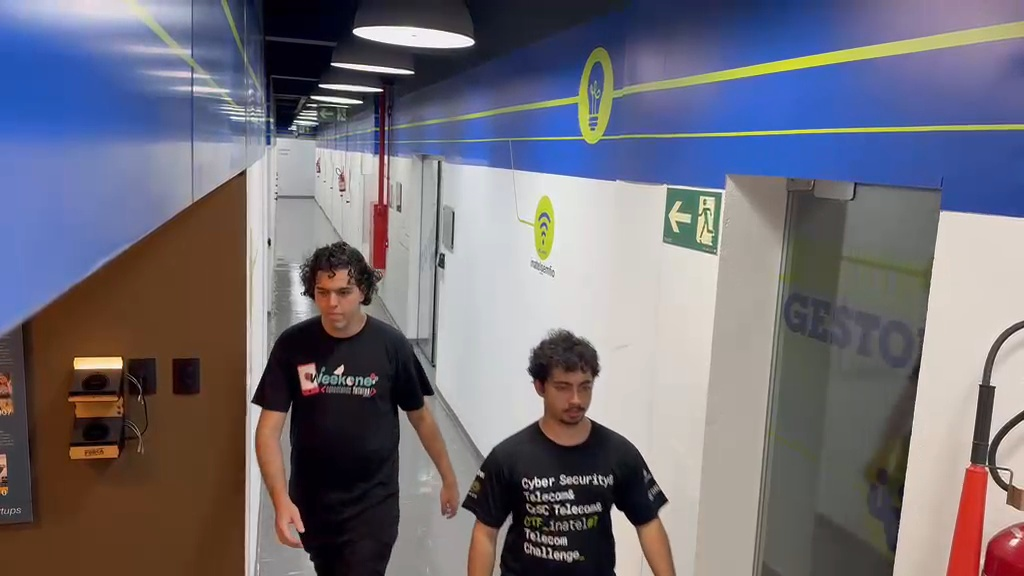person: (251, 242, 462, 572), (462, 328, 677, 573)
